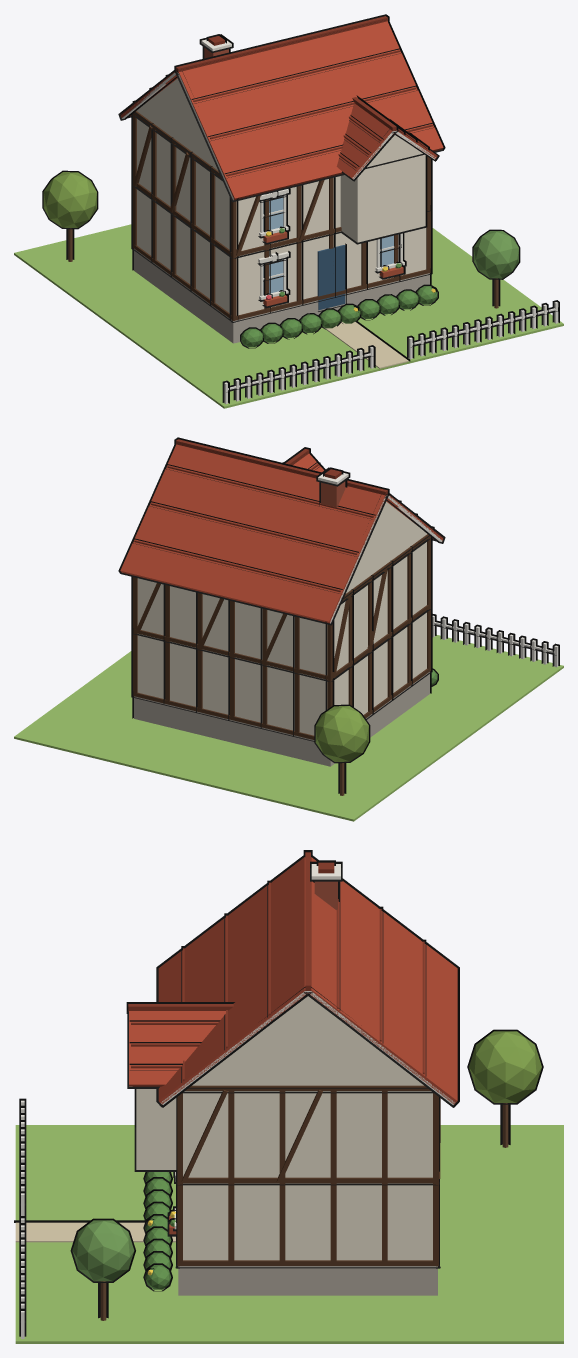
The model's file is Konut_konak_3.fbx.
3 renders of one model, top to bottom at view 1: azimuth 30°, elevation 25°; view 2: azimuth 150°, elevation 25°; view 3: azimuth 270°, elevation 25°, orthographic. The views are drawn at different scales.
Visible parts, largest first — view 1: Konut_konak_3; view 2: Konut_konak_3; view 3: Konut_konak_3.
Boxes of the visible parts, x1,y1,x2,y2 form: Konut_konak_3: (14,14,563,408); Konut_konak_3: (14,437,563,821); Konut_konak_3: (14,850,563,1343).
Bounding box in the file's own units: 14 × 10.09 × 15.05.
